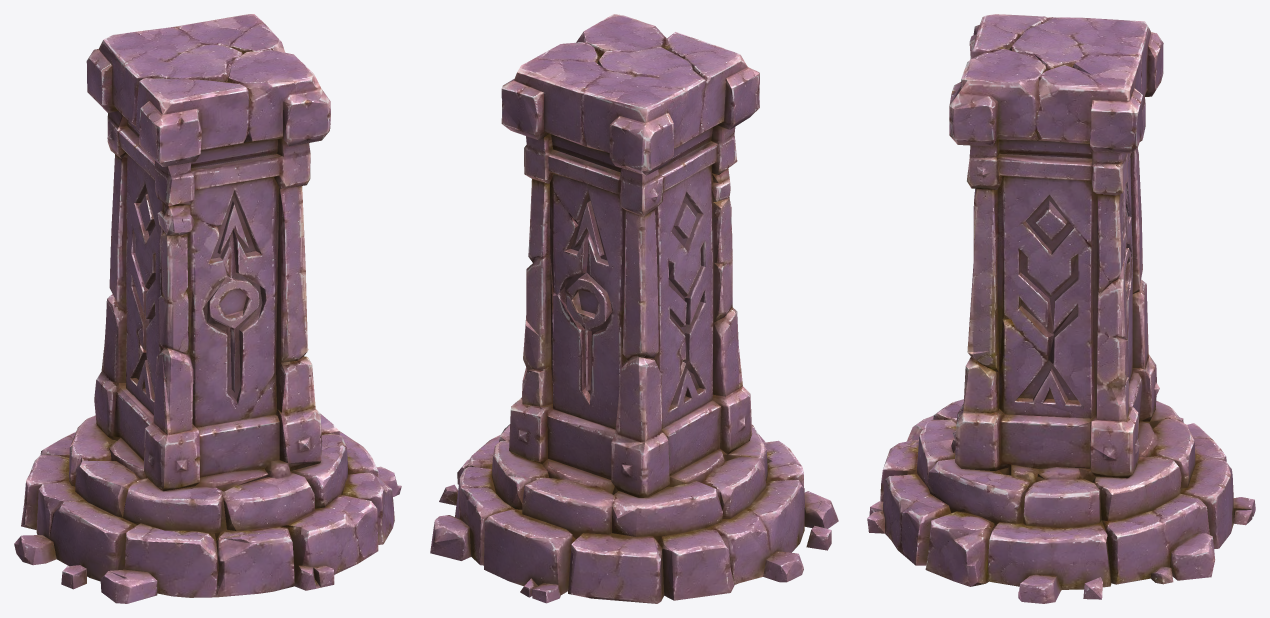
Rendered from rune_pillar.glb.
The picture shows the model from 3 angles, left to right: view 1: azimuth 30°, elevation 25°; view 2: azimuth 150°, elevation 25°; view 3: azimuth 270°, elevation 25°; orthographic projection.
Visible parts, largest first — view 1: body; view 2: body; view 3: body.
Part boxes in pixels (<box>): body: <box>14,14,401,603</box>; body: <box>430,14,838,603</box>; body: <box>867,14,1255,603</box>.
Bounding box in the file's own units: 1.76 × 2.19 × 1.65.
1 material, 1 textured.
